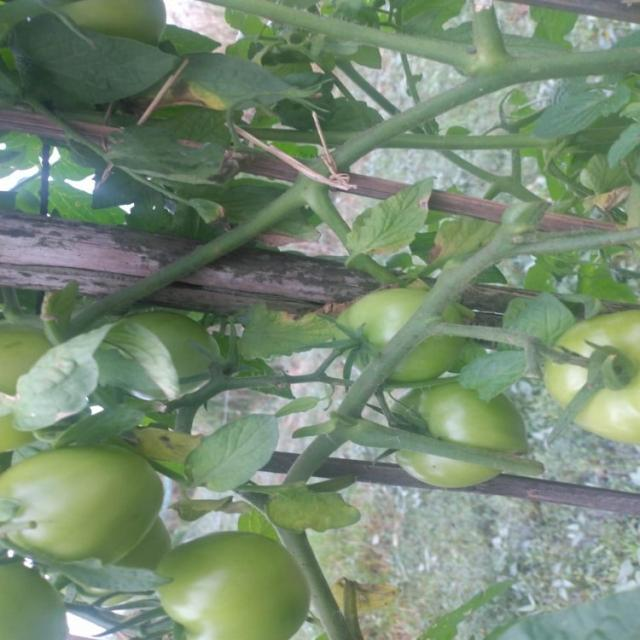tomato: (1, 452, 162, 567), (156, 529, 312, 635), (392, 377, 521, 488), (542, 304, 640, 442), (342, 288, 468, 374), (136, 305, 228, 386), (1, 556, 72, 640), (56, 1, 169, 46), (1, 311, 51, 387)
